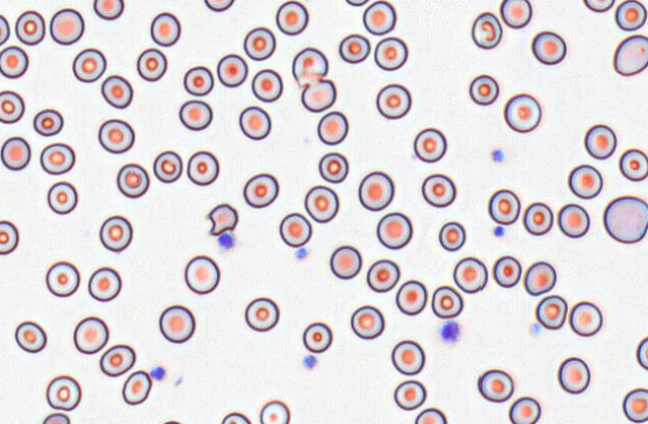PLT: (438, 320, 460, 347), (217, 230, 236, 251), (301, 354, 321, 372), (150, 365, 165, 383), (293, 247, 311, 262), (529, 323, 544, 340), (491, 150, 506, 166), (493, 227, 506, 240)
RBC: (602, 195, 648, 244), (503, 93, 541, 133), (357, 170, 394, 211), (291, 47, 328, 87), (612, 34, 647, 76), (158, 304, 195, 343), (184, 254, 220, 294), (73, 316, 109, 354), (376, 211, 412, 249), (304, 184, 339, 223), (242, 172, 279, 208), (45, 375, 81, 411), (375, 83, 411, 119), (49, 8, 84, 45), (452, 256, 487, 293), (45, 260, 80, 297), (567, 164, 603, 199), (244, 296, 279, 332), (98, 118, 134, 153), (557, 356, 590, 394), (531, 30, 566, 65), (300, 78, 336, 112), (391, 339, 425, 375), (568, 300, 602, 336), (583, 123, 617, 159), (487, 188, 520, 225), (99, 215, 132, 252), (362, 0, 396, 35), (350, 304, 384, 339), (72, 47, 106, 82), (373, 36, 407, 71), (87, 266, 121, 301), (421, 173, 456, 207), (413, 127, 447, 162), (99, 344, 135, 377), (477, 369, 513, 402), (471, 11, 502, 49), (366, 258, 400, 292), (279, 212, 312, 247), (275, 0, 308, 35), (557, 203, 590, 238), (186, 150, 219, 185), (100, 74, 133, 109), (116, 163, 149, 198), (238, 105, 271, 140), (395, 279, 427, 315), (39, 142, 75, 174), (523, 261, 556, 295), (329, 245, 362, 279), (535, 294, 567, 329), (316, 110, 348, 145), (216, 53, 248, 87), (243, 26, 275, 60), (251, 68, 283, 102), (121, 370, 152, 405), (14, 10, 45, 45), (431, 285, 463, 318), (14, 320, 46, 353), (522, 201, 553, 235), (136, 47, 167, 81), (178, 99, 212, 130), (150, 11, 180, 46), (614, 0, 647, 31), (393, 379, 426, 410), (0, 136, 30, 170), (47, 180, 77, 214), (618, 148, 648, 181), (468, 74, 499, 105), (302, 321, 332, 353), (338, 33, 370, 63), (318, 151, 348, 183), (153, 150, 182, 183), (183, 65, 213, 96), (492, 255, 521, 287), (0, 45, 28, 78), (499, 0, 532, 28), (508, 396, 541, 423), (622, 387, 647, 422), (0, 89, 25, 123), (33, 108, 63, 136), (438, 221, 465, 251), (259, 399, 290, 423), (0, 219, 19, 254), (93, 0, 124, 20), (414, 407, 446, 423), (636, 336, 648, 370), (582, 0, 615, 12), (220, 411, 251, 423), (204, 0, 234, 11), (0, 13, 10, 45), (42, 412, 70, 423), (345, 0, 369, 6), (159, 420, 184, 424), (0, 189, 2, 217)
Schistocyte: (207, 205, 239, 237)
